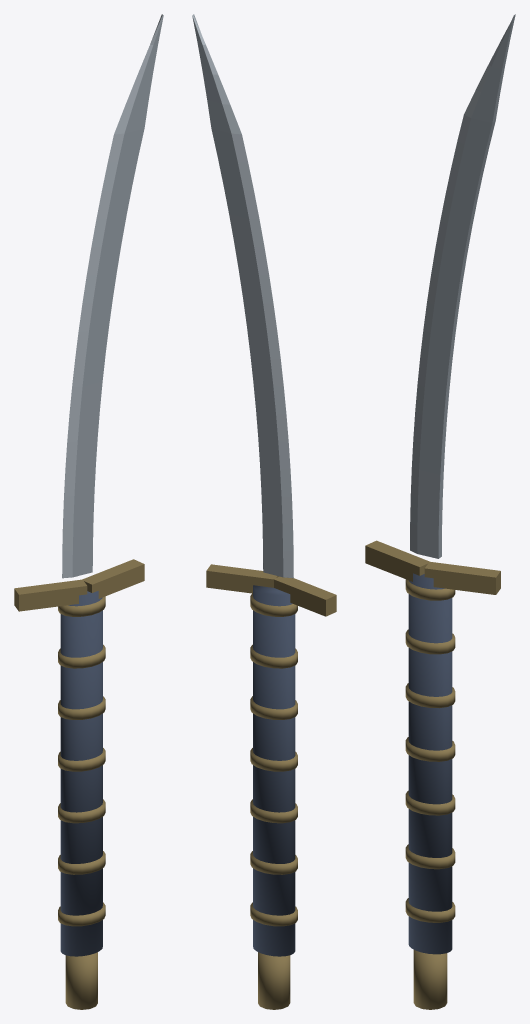
File: wakizashi-moon.fbx
3 renders of one model, left to right at view 1: azimuth 30°, elevation 25°; view 2: azimuth 150°, elevation 25°; view 3: azimuth 330°, elevation 25°, orthographic. The views are drawn at different scales.
Visible parts, largest first — view 1: WakizashiMoonBlade, WakizashiMoonHandle, WakizashiMoonPommelNeck, WakizashiMoonGuardWing-1, WakizashiMoonGuardWing1, WakizashiMoonWrap05, WakizashiMoonWrap00, WakizashiMoonWrap02, WakizashiMoonWrap03, WakizashiMoonWrap01, WakizashiMoonWrap04, WakizashiMoonWrap06; view 2: WakizashiMoonBlade, WakizashiMoonHandle, WakizashiMoonPommelNeck, WakizashiMoonGuardWing1, WakizashiMoonGuardWing-1, WakizashiMoonWrap05, WakizashiMoonWrap00, WakizashiMoonWrap02, WakizashiMoonWrap03, WakizashiMoonWrap01, WakizashiMoonWrap04, WakizashiMoonWrap06; view 3: WakizashiMoonBlade, WakizashiMoonHandle, WakizashiMoonPommelNeck, WakizashiMoonGuardWing1, WakizashiMoonGuardWing-1, WakizashiMoonWrap03, WakizashiMoonWrap05, WakizashiMoonWrap00, WakizashiMoonWrap02, WakizashiMoonWrap04, WakizashiMoonWrap01, WakizashiMoonWrap06.
Part boxes in pixels (x1=…): WakizashiMoonBlade: x1=62, y1=14, x2=163, y2=578; WakizashiMoonHandle: x1=60, y1=591, x2=102, y2=956; WakizashiMoonPommelNeck: x1=65, y1=952, x2=97, y2=1009; WakizashiMoonGuardWing-1: x1=14, y1=579, x2=87, y2=611; WakizashiMoonGuardWing1: x1=82, y1=559, x2=144, y2=598; WakizashiMoonWrap05: x1=58, y1=644, x2=105, y2=668; WakizashiMoonWrap00: x1=58, y1=902, x2=105, y2=926; WakizashiMoonWrap02: x1=58, y1=799, x2=105, y2=823; WakizashiMoonWrap03: x1=58, y1=748, x2=105, y2=771; WakizashiMoonWrap01: x1=58, y1=851, x2=105, y2=874; WakizashiMoonWrap04: x1=58, y1=696, x2=105, y2=719; WakizashiMoonWrap06: x1=58, y1=596, x2=105, y2=616; WakizashiMoonBlade: x1=192, y1=14, x2=293, y2=578; WakizashiMoonHandle: x1=253, y1=585, x2=295, y2=956; WakizashiMoonPommelNeck: x1=258, y1=952, x2=290, y2=1009; WakizashiMoonGuardWing1: x1=206, y1=564, x2=278, y2=593; WakizashiMoonGuardWing-1: x1=274, y1=576, x2=336, y2=616; WakizashiMoonWrap05: x1=250, y1=644, x2=297, y2=668; WakizashiMoonWrap00: x1=250, y1=902, x2=297, y2=926; WakizashiMoonWrap02: x1=250, y1=799, x2=297, y2=823; WakizashiMoonWrap03: x1=250, y1=748, x2=297, y2=771; WakizashiMoonWrap01: x1=250, y1=851, x2=297, y2=874; WakizashiMoonWrap04: x1=250, y1=696, x2=297, y2=719; WakizashiMoonWrap06: x1=250, y1=593, x2=297, y2=616; WakizashiMoonBlade: x1=410, y1=14, x2=515, y2=558; WakizashiMoonHandle: x1=408, y1=573, x2=452, y2=954; WakizashiMoonPommelNeck: x1=413, y1=950, x2=447, y2=1009; WakizashiMoonGuardWing1: x1=424, y1=562, x2=500, y2=594; WakizashiMoonGuardWing-1: x1=365, y1=540, x2=430, y2=581; WakizashiMoonWrap03: x1=405, y1=737, x2=455, y2=761; WakizashiMoonWrap05: x1=405, y1=629, x2=455, y2=654; WakizashiMoonWrap00: x1=405, y1=898, x2=455, y2=922; WakizashiMoonWrap02: x1=405, y1=790, x2=455, y2=815; WakizashiMoonWrap04: x1=405, y1=683, x2=455, y2=708; WakizashiMoonWrap01: x1=405, y1=844, x2=455, y2=869; WakizashiMoonWrap06: x1=405, y1=579, x2=455, y2=600.
Bounding box in the file's own units: 0.125 × 0.805 × 0.0289.
